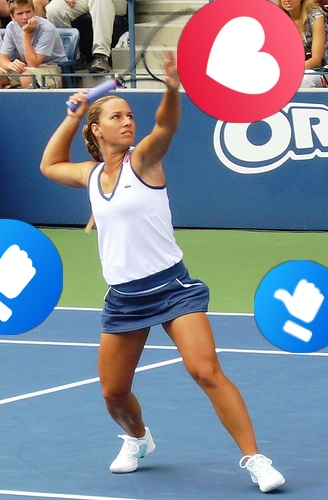like: (0, 219, 63, 335), (254, 260, 328, 353)
love: (177, 0, 305, 123)
